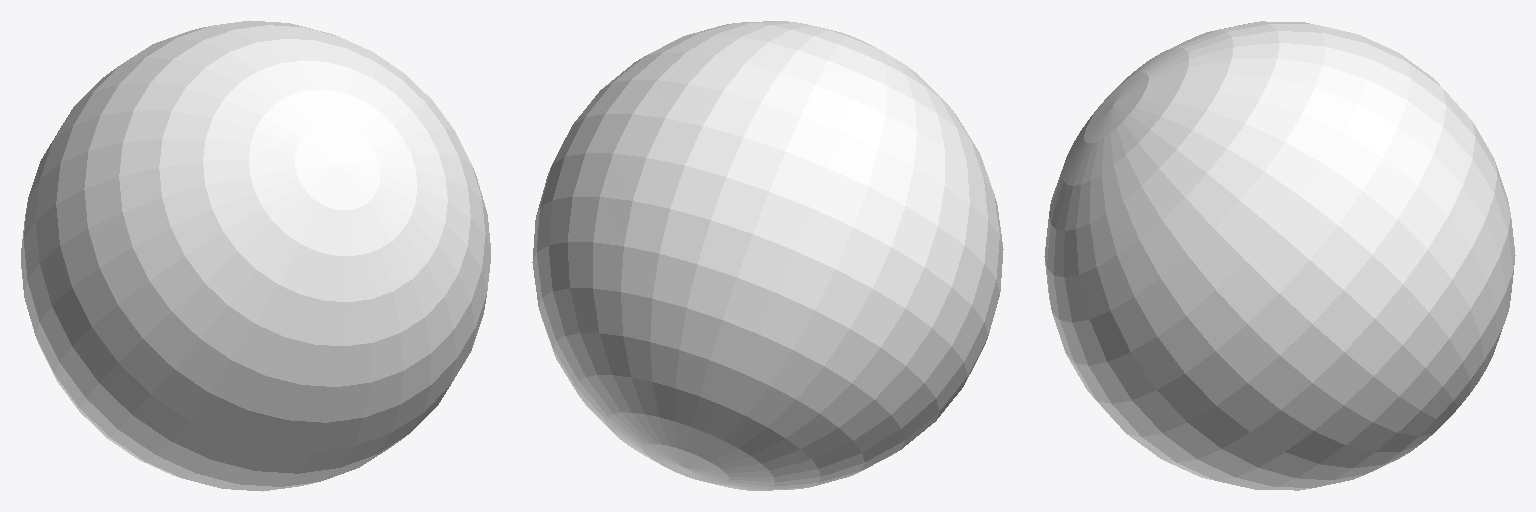
The robot description file, URDF, robot "Mockup assem.SLDASM":
<?xml version="1.0" encoding="utf-8"?>
<!-- This URDF was automatically created by SolidWorks to URDF Exporter! Originally created by [author] ([email redacted]) 
     Commit Version: 1.6.0-4-g7f85cfe  Build Version: 1.6.7995.38578
     For more information, please see http://wiki.ros.org/sw_urdf_exporter -->
<robot
  name="Mockup assem.SLDASM">
  <link
    name="base_link">
    <inertial>
      <origin
        xyz="0 -3.5527136788005E-15 0"
        rpy="0 0 0" />
      <mass
        value="3.05379730217776" />
      <inertia
        ixx="0.0134244037728851"
        ixy="1.32348898009124E-20"
        ixz="1.05879118406788E-19"
        iyy="0.0134244037728849"
        iyz="-8.60267837055149E-20"
        izz="0.0247789880905595" />
    </inertial>
    <visual>
      <origin
        xyz="-0.13719 -0.153 -0.035"
        rpy="0 0 0" />
      <geometry>
        <mesh
          filename="file://[local-path]/Documents/Hexapod/PhysicalAI_modelling/Models/SingleLeg/Mesh/Mockup Body.obj" />
      </geometry>
      <material
        name="">
        <color
          rgba="0.792156862745098 0.819607843137255 0.933333333333333 1" />
      </material>
    </visual>
    <collision>
      <origin
        xyz="0 0 0"
        rpy="0 0 0" />
      <geometry>
        <mesh
          filename="file://[local-path]/Documents/Hexapod/PhysicalAI_modelling/Models/SingleLeg/Mesh/Mockup Body.obj" />
      </geometry>
    </collision>
  </link>
  <link
    name="HeelLink">
    <inertial>
      <origin
        xyz="-0.0619677535958516 3.5527136788005E-15 -1.94289029309402E-16"
        rpy="0 0 0" />
      <mass
        value="0.301606825077316" />
      <inertia
        ixx="0.000243458090535534"
        ixy="3.28479376945218E-18"
        ixz="-7.65547297868403E-19"
        iyy="0.000676411825972959"
        iyz="-1.39023672630577E-19"
        izz="0.000582709128938065" />
    </inertial>
    <!-- <visual>
      <origin
        xyz="0 0 0"
        rpy="0 0 0" />
      <geometry>
        <mesh
          filename="file://[local-path]/Documents/Hexapod/PhysicalAI_modelling/Models/SingleLeg/Mesh/HeelLink.obj" />
      </geometry>
      <material
        name="">
        <color
          rgba="0.792156862745098 0.819607843137255 0.933333333333333 1" />
      </material>
    </visual> -->
    <collision>
      <origin
        xyz="0 0 0"
        rpy="0 0 0" />
      <geometry>
        <mesh
          filename="file://[local-path]/Documents/Hexapod/PhysicalAI_modelling/Models/SingleLeg/Mesh/HeelLink.obj" />
      </geometry>
    </collision>
  </link>
  <joint
    name="HeelJoint"
    type="revolute">
    <origin
      xyz="0 0.118 0"
      rpy="3.1416 0 -1.5705" />
    <parent
      link="base_link" />
    <child
      link="HeelLink" />
    <axis
      xyz="0 0 -1" />
    <limit
      lower="-3.14"
      upper="3.14"
      effort="0"
      velocity="0" />
  </joint>
  <link
    name="HipLink">
    <inertial>
      <origin
        xyz="-0.0163079071961647 0.0741080143062312 -1.06581410364015E-14"
        rpy="0 0 0" />
      <mass
        value="0.382897249240284" />
      <inertia
        ixx="0.00117906479710534"
        ixy="0.000284084835728015"
        ixz="7.29125960996502E-18"
        iyy="0.000554675269889953"
        iyz="-5.72594281359059E-18"
        izz="0.00117232064788202" />
    </inertial>
    <!-- <visual>
      <origin
        xyz="0 0 0"
        rpy="0 0 0" />
      <geometry>
        <mesh
          filename="file://[local-path]/Documents/Hexapod/PhysicalAI_modelling/Models/SingleLeg/Mesh/HipLink.obj" />
      </geometry>
      <material
        name="">
        <color
          rgba="0.792156862745098 0.819607843137255 0.933333333333333 1" />
      </material>
    </visual> -->
    <collision>
      <origin
        xyz="0 0 0"
        rpy="0 0 0" />
      <geometry>
        <mesh
          filename="file://[local-path]/Documents/Hexapod/PhysicalAI_modelling/Models/SingleLeg/Mesh/HipLink.obj" />
      </geometry>
    </collision>
  </link>
  <joint
    name="HipJoint"
    type="revolute">
    <origin
      xyz="-0.09 0 0"
      rpy="-1.5708 0 0" />
    <parent
      link="HeelLink" />
    <child
      link="HipLink" />
    <axis
      xyz="0 0 -1" />
    <limit
      lower="-3.14"
      upper="3.14"
      effort="0"
      velocity="0" />
  </joint>
  <link
    name="KneeLink">
    <inertial>
      <origin
        xyz="-0.0342934938820143 -0.0234797596189455 -3.5527136788005E-15"
        rpy="0 0 0" />
      <mass
        value="0.252925405164945" />
      <inertia
        ixx="0.000608070877297243"
        ixy="-0.000656306112936175"
        ixz="-2.71050543121376E-18"
        iyy="0.000972047912340625"
        iyz="-2.99510861702139E-18"
        izz="0.00150234212169954" />
    </inertial>
    <!-- <visual>
      <origin
        xyz="0 0 0"
        rpy="0 0 0" />
      <geometry>
        <mesh
          filename="file://[local-path]/Documents/Hexapod/PhysicalAI_modelling/Models/SingleLeg/Mesh/KneeLink.obj" />
      </geometry>
      <material
        name="">
        <color
          rgba="0.792156862745098 0.819607843137255 0.933333333333333 1" />
      </material>
    </visual> -->
    <collision>
      <origin
        xyz="0 0 0"
        rpy="0 0 0" />
      <geometry>
        <mesh
          filename="file://[local-path]/Documents/Hexapod/PhysicalAI_modelling/Models/SingleLeg/Mesh/KneeLink.obj" />
      </geometry>
    </collision>
  </link>
  <joint
    name="KneeJoint"
    type="revolute">
    <origin
      xyz="-0.054123 0.1399 0"
      rpy="0 0 0" />
    <parent
      link="HipLink" />
    <child
      link="KneeLink" />
    <axis
      xyz="0 0 1" />
    <limit
      lower="-3.14"
      upper="3.14"
      effort="0"
      velocity="0" />
  </joint>
  <link
    name="Endeffector">
    <inertial>
      <origin
        xyz="0.28037175613424 -0.012612178977303 0.374577944921013"
        rpy="0 0 0" />
      <mass
        value="8.67837417907314" />
      <inertia
        ixx="0.273444962036544"
        ixy="-0.00393377617806781"
        ixz="-0.071465148326099"
        iyy="0.203265471735912"
        iyz="-0.00390942180701867"
        izz="0.273047520545035" />
    </inertial>
    <visual>
      <origin
        xyz="0 0 0"
        rpy="0 0 0" />
      <geometry>
        <sphere radius="0.001"/>
      </geometry>
      <material
        name="">
        <color
          rgba="1 1 1 1" />
      </material>
    </visual>

  </link>
  <joint
    name="Endeffector"
    type="fixed">
    <origin
      xyz="-0.20176 -0.16589 0"
      rpy="-1.5708 0 -0.78679" />
    <parent
      link="KneeLink" />
    <child
      link="Endeffector" />
    <axis
      xyz="0 0 0" />
  </joint>
</robot>

--- Facts derived from the render (not from the file) ---
Views: 3 orthographic renders of the robot side by side, from view 1: azimuth 30°, elevation 25°; view 2: azimuth 150°, elevation 25°; view 3: azimuth 270°, elevation 25°.
Robot: Mockup assem.SLDASM — 5 links, 4 joints (3 revolute, 1 fixed); root link base_link; default pose: every joint at zero.
Visible links, largest first — view 1: Endeffector; view 2: Endeffector; view 3: Endeffector.
Boxes of the visible links, bbox=[...] form: Endeffector: bbox=[21, 20, 490, 491]; Endeffector: bbox=[532, 21, 1003, 490]; Endeffector: bbox=[1044, 21, 1515, 490].
Bounding box of the posed robot: 0.002 × 0.002 × 0.002 m (x, y, z).
Geometry: only primitive shapes (box / cylinder / sphere) drawn; not drawn: 1 mesh visual (reference in a form the renderer does not follow).